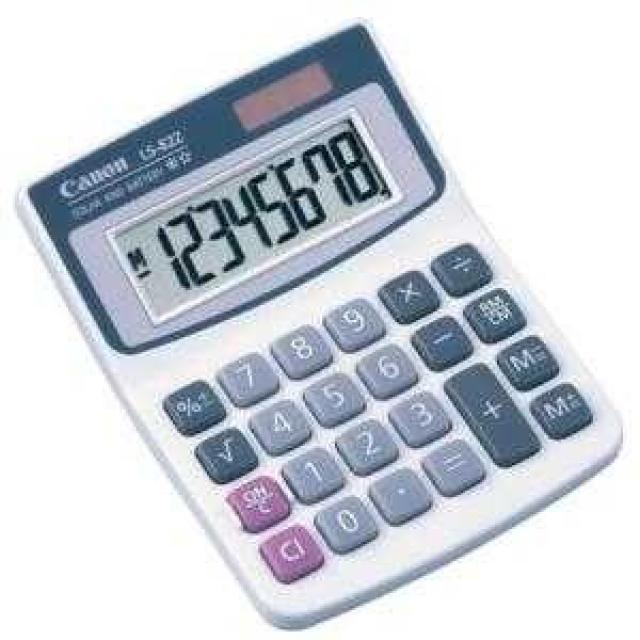Calculator: (17, 17, 621, 623)
